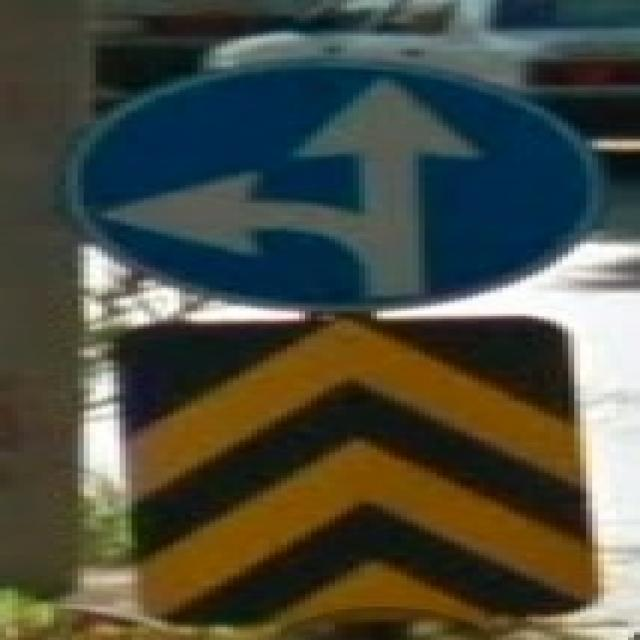Straight or Left: (67, 63, 599, 312)
